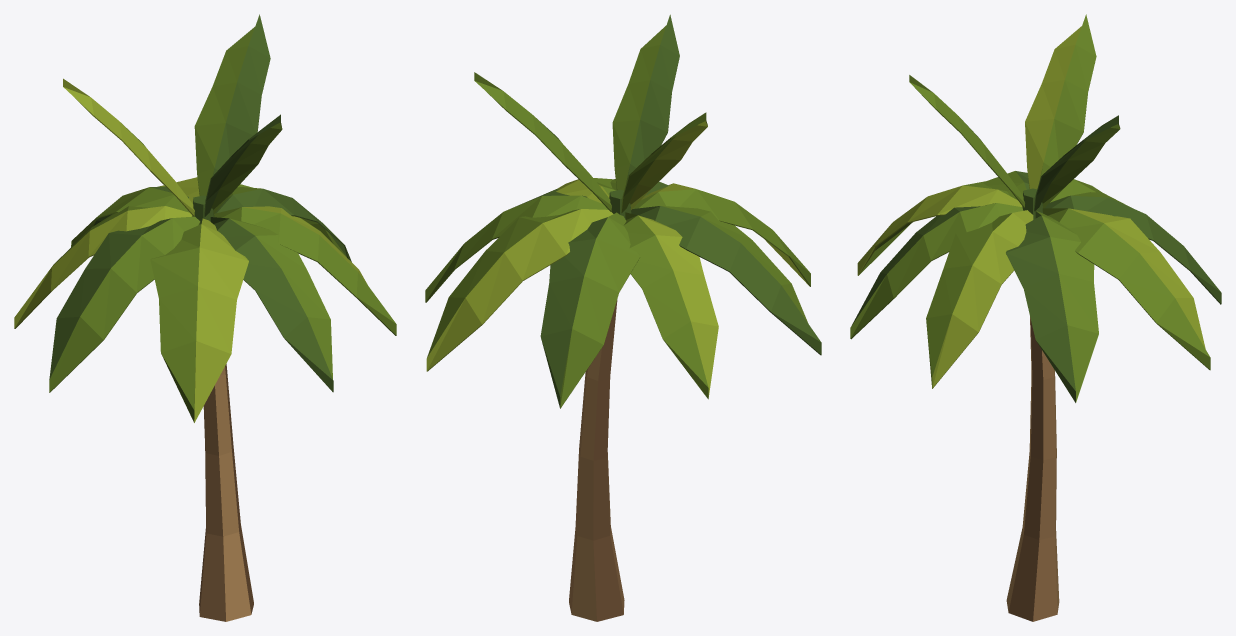
The model's file is palm_b_far.glb.
3 renders of one model, left to right at view 1: azimuth 30°, elevation 25°; view 2: azimuth 150°, elevation 25°; view 3: azimuth 270°, elevation 25°, orthographic. The views are drawn at different scales.
Parts seen in each view (by area): view 1: body; view 2: body; view 3: body.
Boxes of the visible parts, bbox=[...] form: body: bbox=[14, 14, 396, 621]; body: bbox=[425, 14, 821, 621]; body: bbox=[850, 14, 1221, 621].
Bounding box in the file's own units: 4.33 × 6.49 × 4.12.
